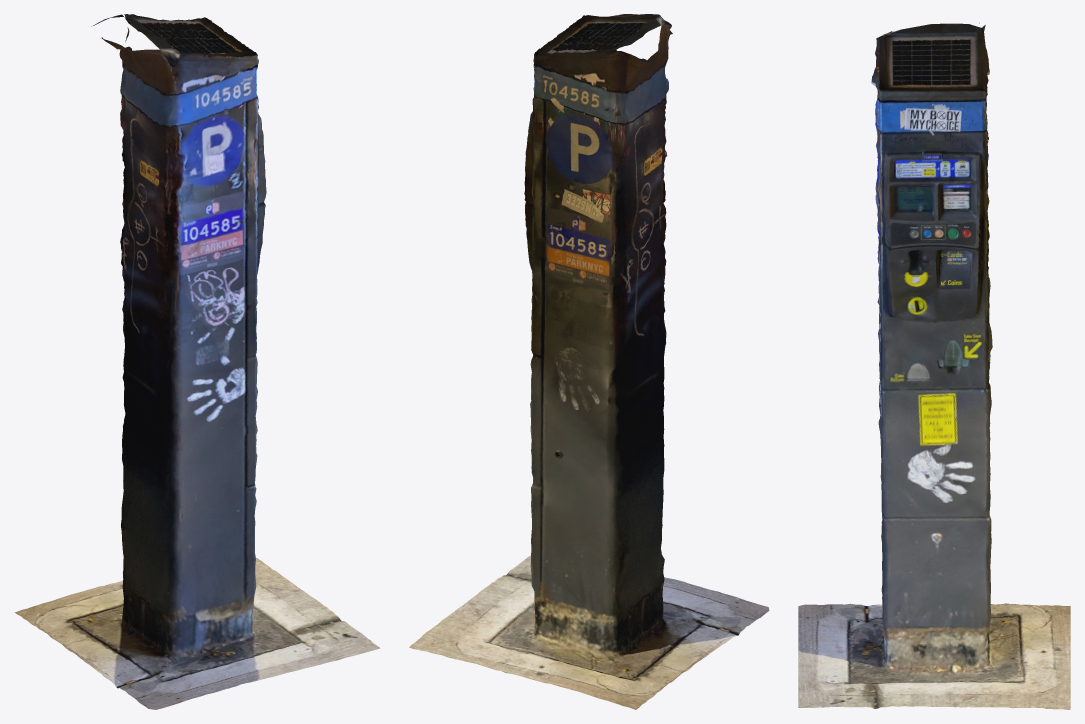
File: w_vending_parking_tickets.glb
3 renders of one model, left to right at view 1: azimuth 30°, elevation 25°; view 2: azimuth 150°, elevation 25°; view 3: azimuth 270°, elevation 25°, orthographic.
Visible parts, largest first — view 1: Object_4; view 2: Object_4; view 3: Object_4.
Boxes of the visible parts, x1,y1,x2,y2 form: Object_4: [15, 14, 380, 709]; Object_4: [409, 14, 769, 709]; Object_4: [798, 23, 1070, 709].
Size of the model in its own units: 0.6737 by 1.74 by 0.7008.
1 material, 1 textured.
